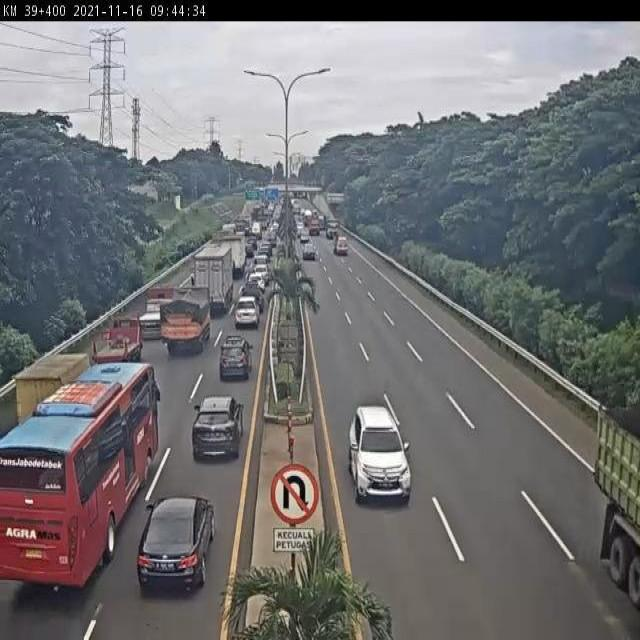big bus: (0, 364, 159, 591)
car: (136, 496, 214, 593), (348, 408, 413, 507), (192, 396, 244, 457), (219, 335, 252, 381), (232, 302, 257, 334), (241, 289, 264, 312), (247, 270, 266, 290)
small truck: (13, 351, 97, 428), (91, 317, 142, 372), (137, 286, 176, 338)
truck-l-: (191, 244, 234, 311)
truck-m-: (160, 289, 210, 360), (216, 239, 244, 280)
